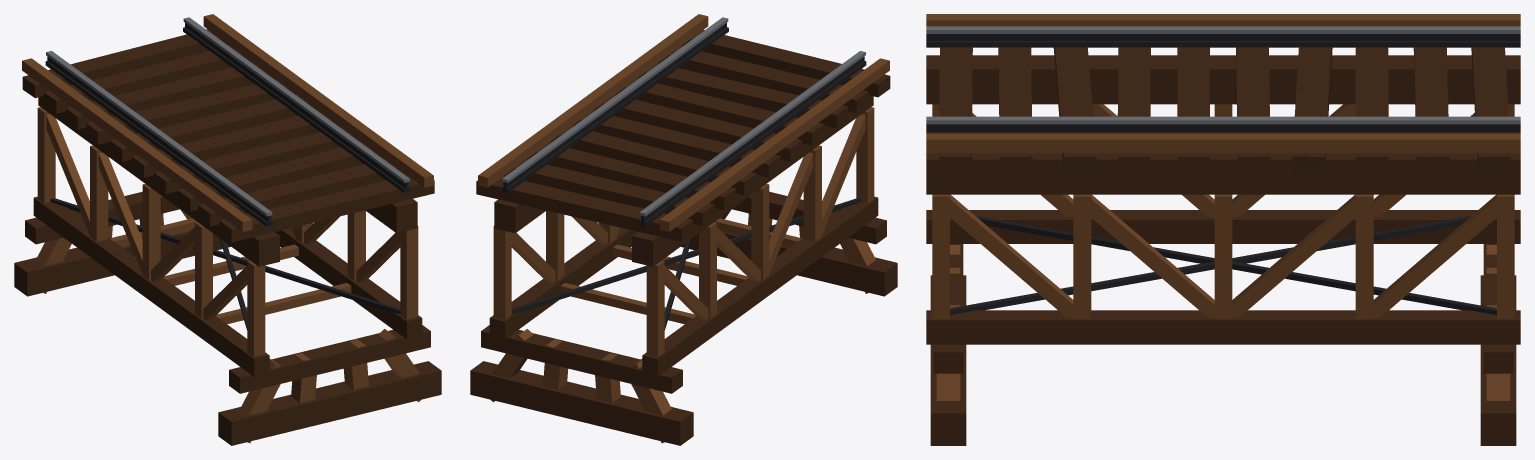
The model's file is SM_Rail_Bridge_Middle.obj.
3 views of the same model, side by side, from view 1: azimuth 30°, elevation 25°; view 2: azimuth 150°, elevation 25°; view 3: azimuth 270°, elevation 25° (orthographic). The views are drawn at different scales.
Visible parts, largest first — view 1: SM_Rail_Bridge_Middle; view 2: SM_Rail_Bridge_Middle; view 3: SM_Rail_Bridge_Middle.
Boxes of the visible parts, x1,y1,x2,y2 form: SM_Rail_Bridge_Middle: (14,14,441,445); SM_Rail_Bridge_Middle: (470,14,897,445); SM_Rail_Bridge_Middle: (926,14,1520,445).
Size of the model in its own units: 2.2 by 2.3 by 4.
